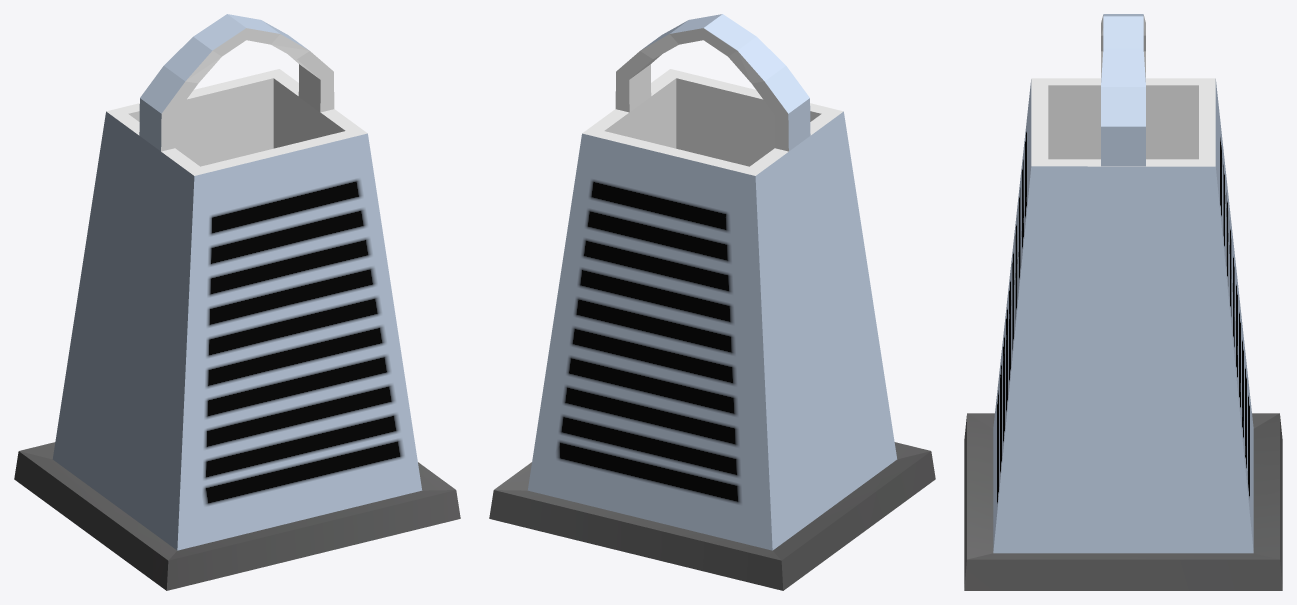
The model's file is Grater.fbx.
3 views of the same model, side by side, from view 1: azimuth 30°, elevation 25°; view 2: azimuth 150°, elevation 25°; view 3: azimuth 270°, elevation 25° (orthographic). The views are drawn at different scales.
Parts seen in each view (by area): view 1: Grater; view 2: Grater; view 3: Grater.
Boxes of the visible parts, <box> form: Grater: <box>14,14,460,590</box>; Grater: <box>489,14,935,590</box>; Grater: <box>964,14,1282,590</box>.
Bounding box in the file's own units: 11.26 × 17.5 × 10.11.
